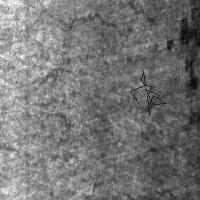crazing: (27, 1, 158, 84), (2, 88, 88, 168), (85, 143, 200, 200), (130, 71, 166, 115)
